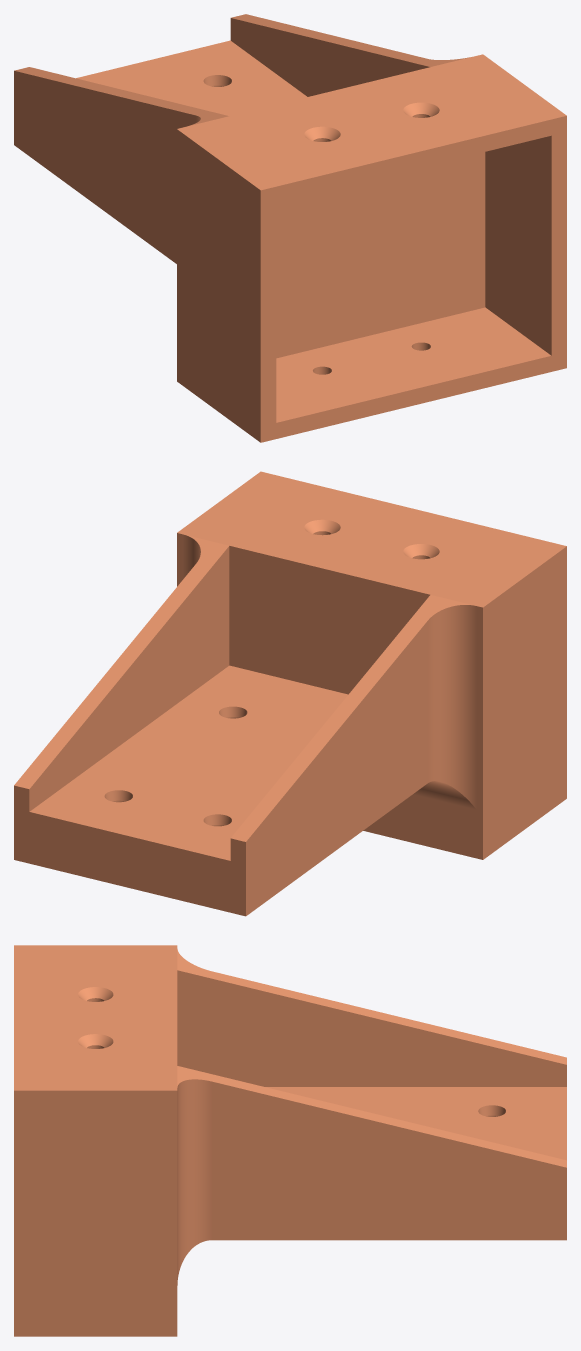
Rendered from Right Arm - Part 2 (4).gltf.
The picture shows the model from 3 angles, top to bottom: view 1: azimuth 30°, elevation 25°; view 2: azimuth 150°, elevation 25°; view 3: azimuth 270°, elevation 25°; orthographic projection. The views are drawn at different scales.
Parts seen in each view (by area): view 1: Part 2; view 2: Part 2; view 3: Part 2.
Boxes of the visible parts, left/top/right/bottom form: Part 2: left=14, top=14, right=566, bottom=442; Part 2: left=14, top=471, right=566, bottom=916; Part 2: left=14, top=945, right=566, bottom=1336.
Bounding box in the file's own units: 0.0495 × 0.039 × 0.0795.
